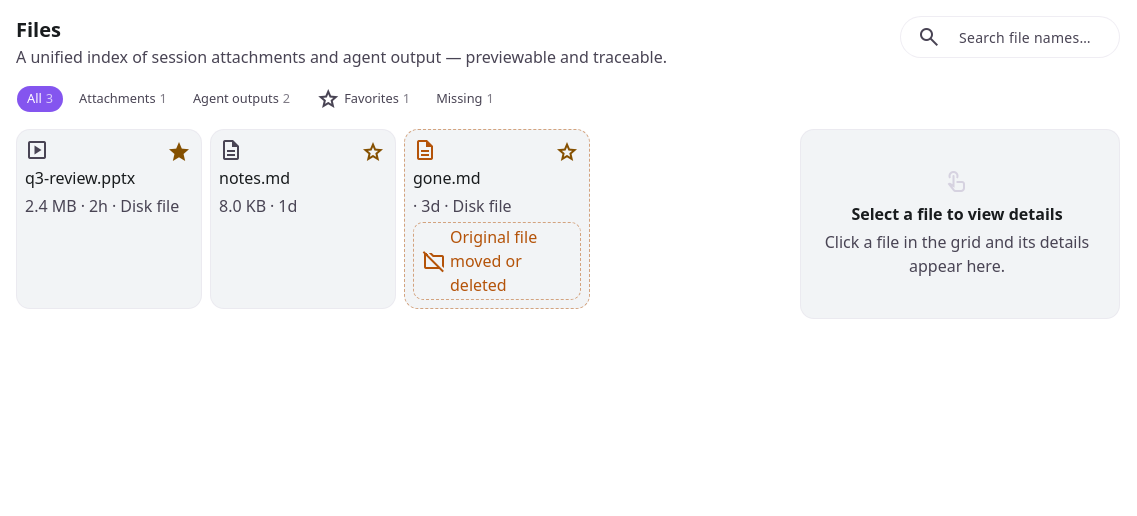
FilesPage — preview panel (R2 B1) › ≥1280px: selecting a missing file shows the missing note and disables open/reveal in the panel
Click the button with test id "files-row-select": (497, 219) [413,138,581,300]
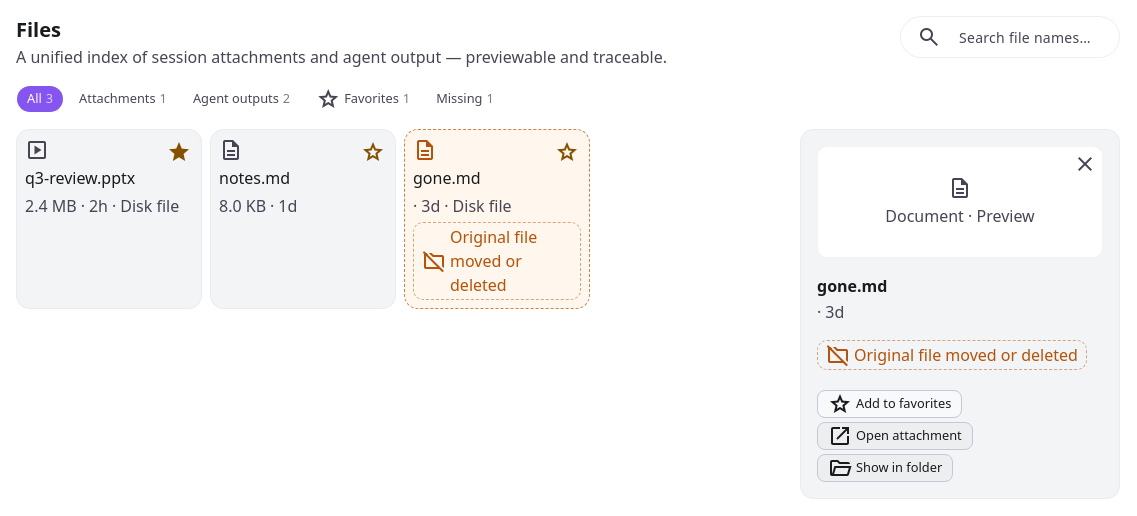
Now the element with test id "files-preview-missing" is shown, box [817,340,1087,370]
Now the button with test id "files-preview-open" is disabled, box [817,422,973,450]
Now the button with test id "files-preview-reveal" is disabled, box [817,454,953,482]
